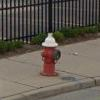Hydrant: (34, 26, 63, 81)
